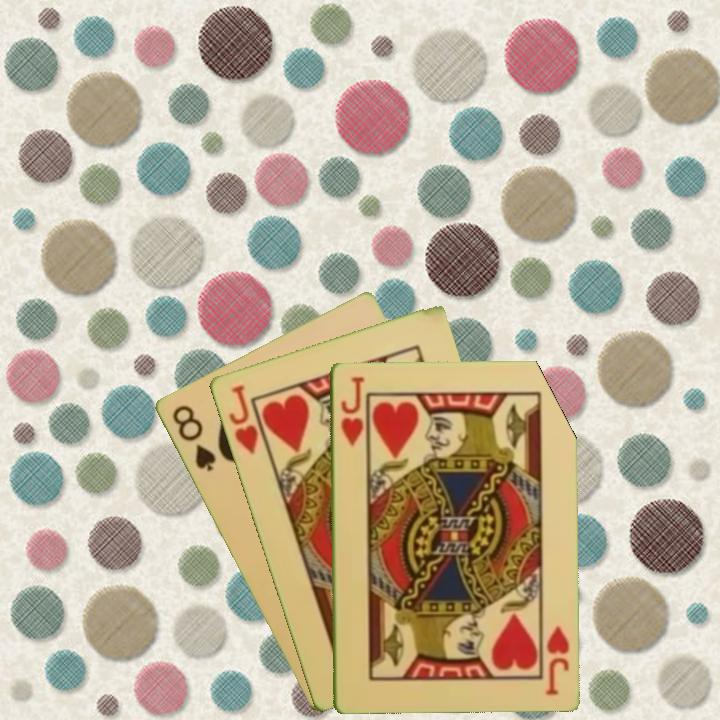8s: (168, 401, 218, 475)
Jh: (225, 380, 271, 458), (337, 372, 366, 448), (542, 621, 571, 697)
